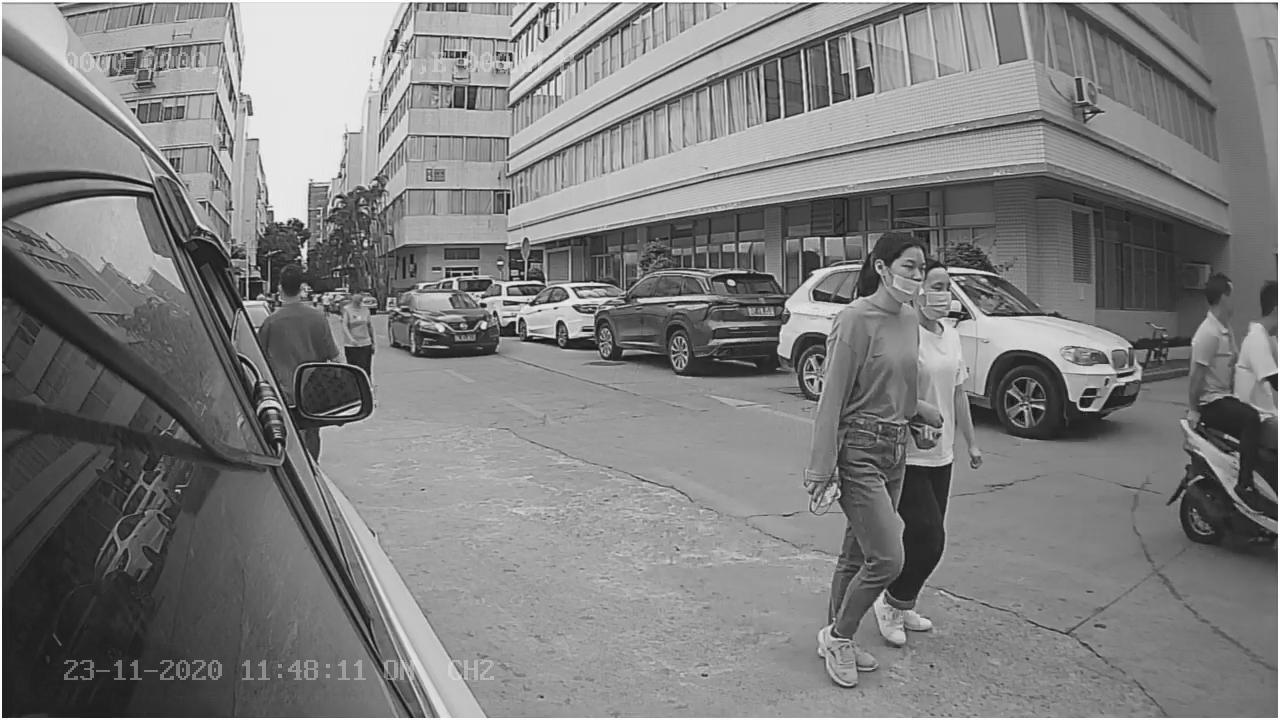person: (801, 224, 933, 684)
